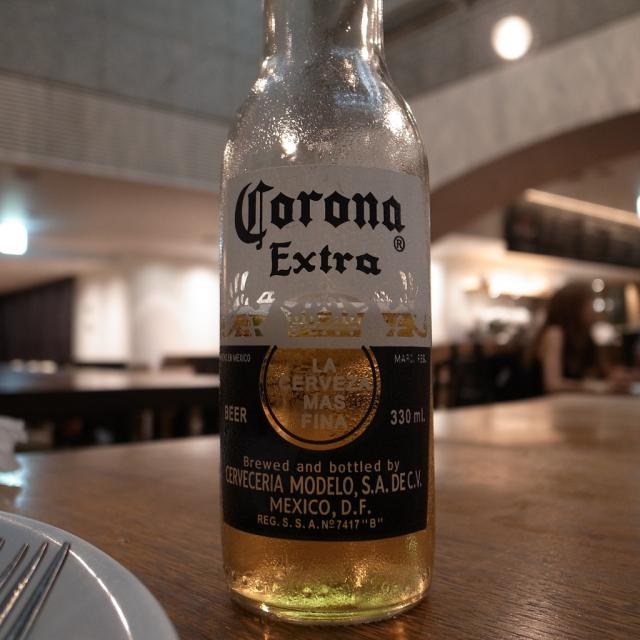corona: (221, 165, 434, 542)
